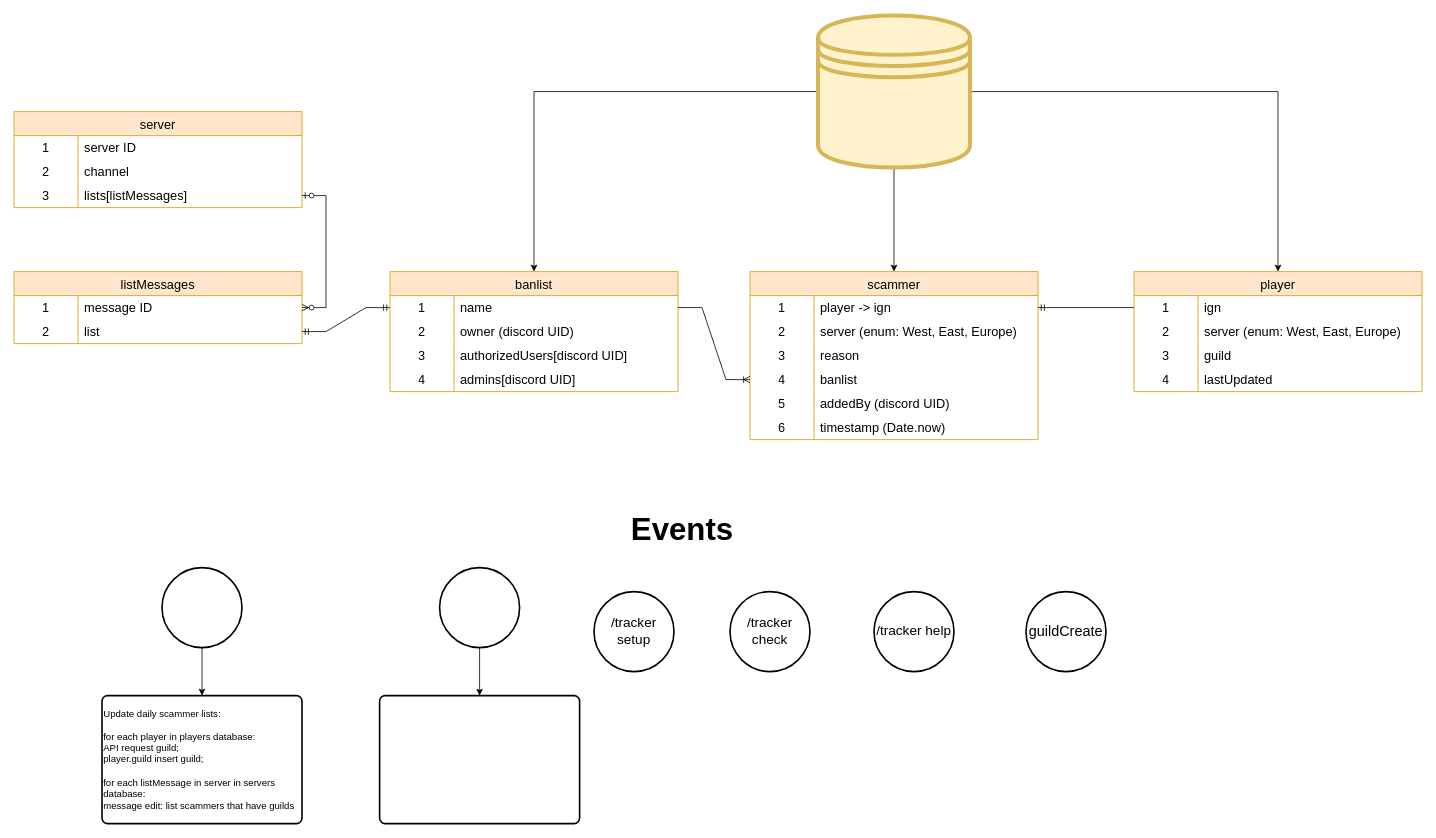
Some shapes in this 1436 by 838 pixel diagram are drawn without their labels. Each missing label, with the centre of its shape:
/tracker add: the point at 479,607
1-day cron-job: the point at 201,607
mongoDB Database: the point at 894,91
